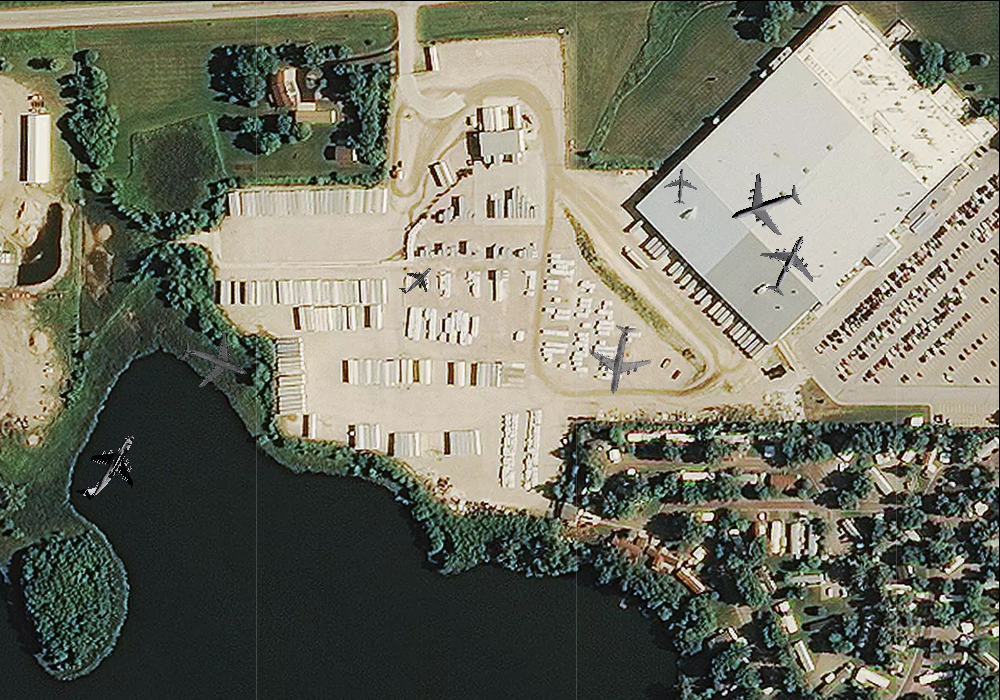plane: (58, 415, 157, 518), (169, 318, 258, 405), (721, 162, 810, 248), (747, 222, 829, 306), (581, 319, 658, 399), (391, 254, 441, 305), (663, 167, 698, 205)
